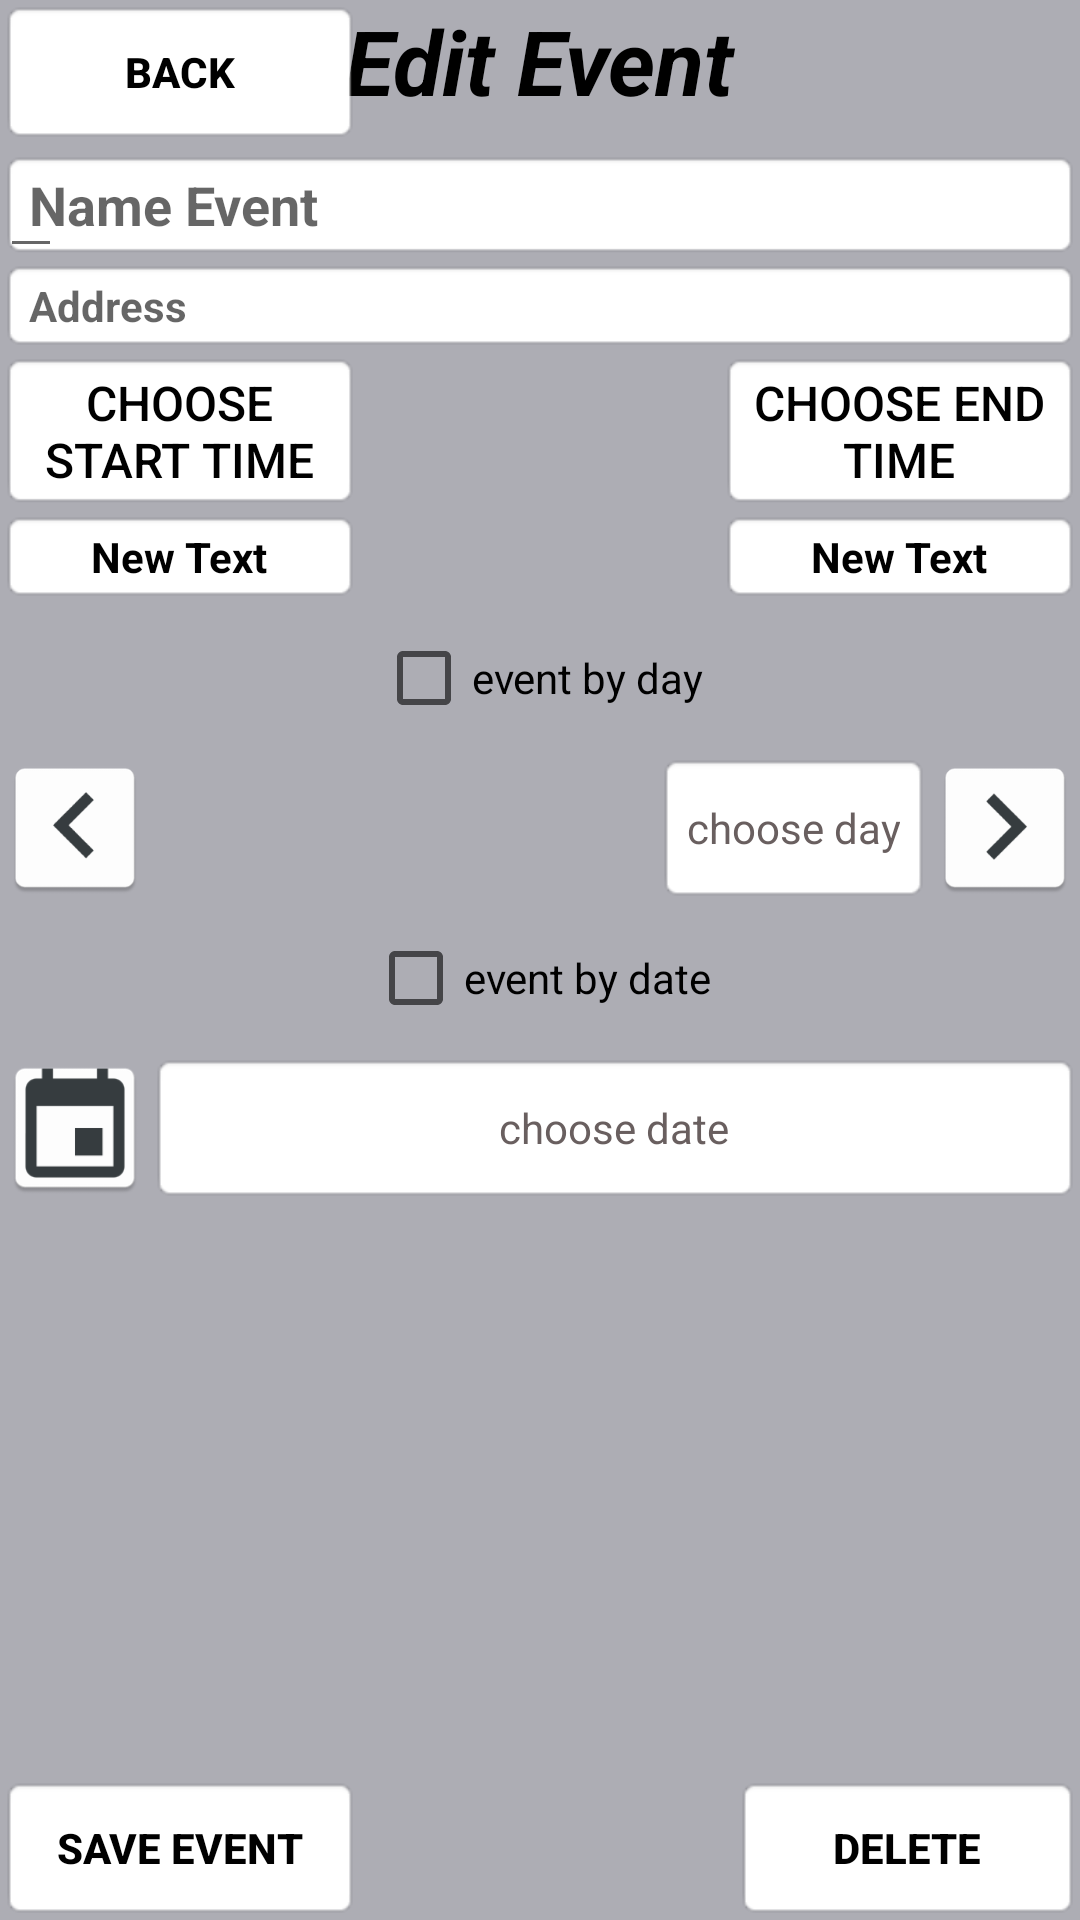

Screen size 1080px×1920px. Icon name, then its box in pixels as [left=x1, top=y1, right=x2, bottom=y2]:
calicon: [left=15, top=1068, right=134, bottom=1190]
laftarrow: [left=15, top=768, right=134, bottom=890]
rigtharrow: [left=945, top=768, right=1064, bottom=890]
